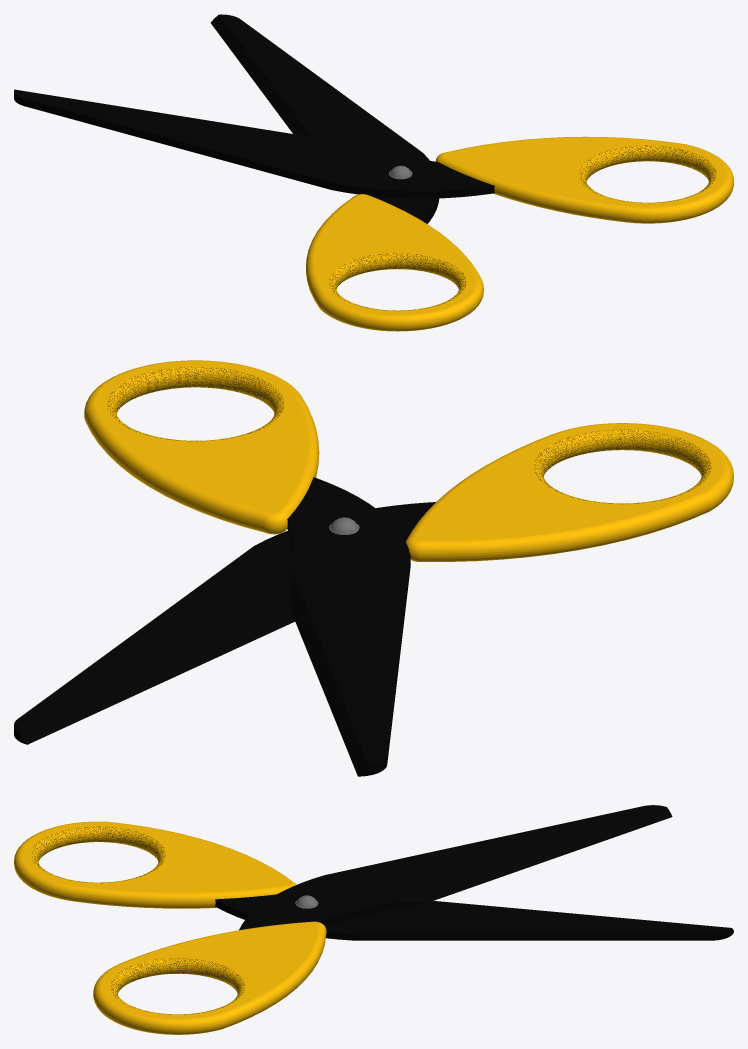
The model's file is scissors_02_origin_gt_1.dae.
3 views of the same model, one above another, from view 1: azimuth 30°, elevation 25°; view 2: azimuth 150°, elevation 25°; view 3: azimuth 270°, elevation 25° (orthographic). The views are drawn at different scales.
Parts seen in each view (by area): view 1: Component_17 (×4), Component_16 (×2); view 2: Component_17 (×4), Component_16 (×2); view 3: Component_17 (×4), Component_16 (×2).
Boxes of the visible parts, <box> form: Component_17 (×4): <box>306,136,733,331</box>; Component_16 (×2): <box>14,14,494,223</box>; Component_17 (×4): <box>84,360,733,561</box>; Component_16 (×2): <box>14,477,435,776</box>; Component_17 (×4): <box>14,821,326,1034</box>; Component_16 (×2): <box>215,805,733,940</box>.
Size of the model in its own units: 7.49 by 10.31 by 0.4046.
